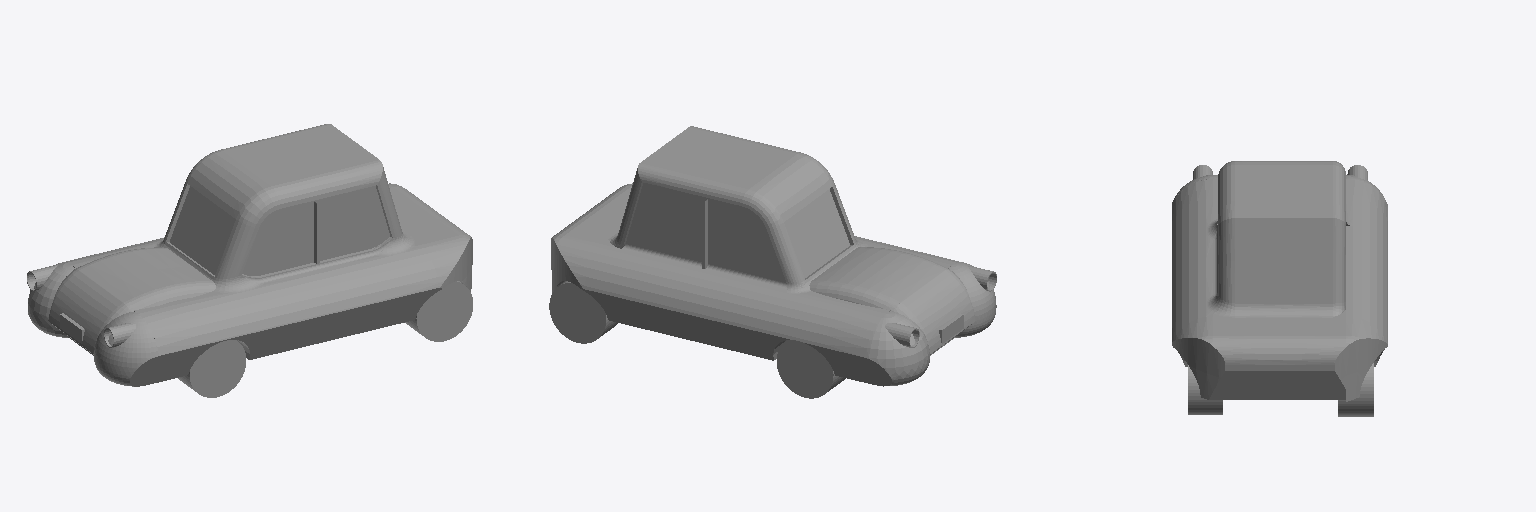
Rendered from aut.obj.
3 renders of one model, left to right at view 1: azimuth 30°, elevation 25°; view 2: azimuth 150°, elevation 25°; view 3: azimuth 270°, elevation 25°, orthographic.
Visible parts, largest first — view 1: Auto; view 2: Auto; view 3: Auto.
Part boxes in pixels (x1,y1,x2,y2): Auto: (27, 124, 472, 397); Auto: (549, 126, 996, 398); Auto: (1172, 161, 1387, 416).
Size of the model in its own units: 8.55 by 3.78 by 4.24.